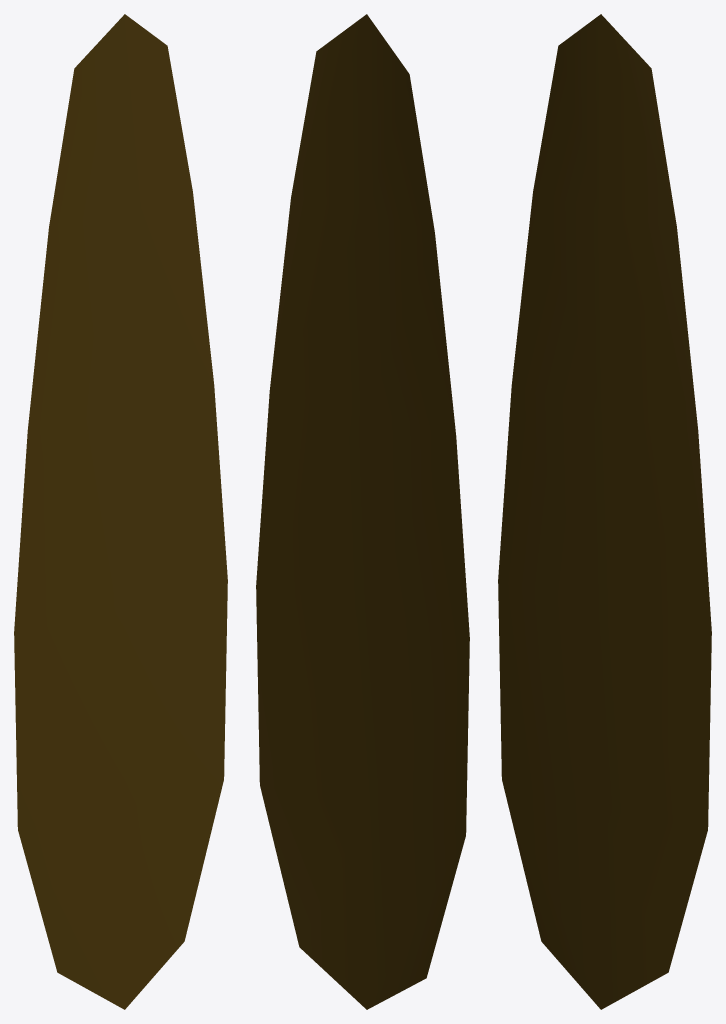
The model's file is canary_feather_flight_primary_002.obj.
The picture shows the model from 3 angles, left to right: view 1: azimuth 30°, elevation 25°; view 2: azimuth 150°, elevation 25°; view 3: azimuth 330°, elevation 25°; orthographic projection.
Visible parts, largest first — view 1: feather_flight_primary_002; view 2: feather_flight_primary_002; view 3: feather_flight_primary_002.
Part boxes in pixels (box(x1,y1,x2,y2)): feather_flight_primary_002: box(14, 14, 227, 1009); feather_flight_primary_002: box(256, 14, 469, 1009); feather_flight_primary_002: box(498, 14, 711, 1009).
Bounding box in the file's own units: 0.00491 × 0.0219 × 0.000155.
